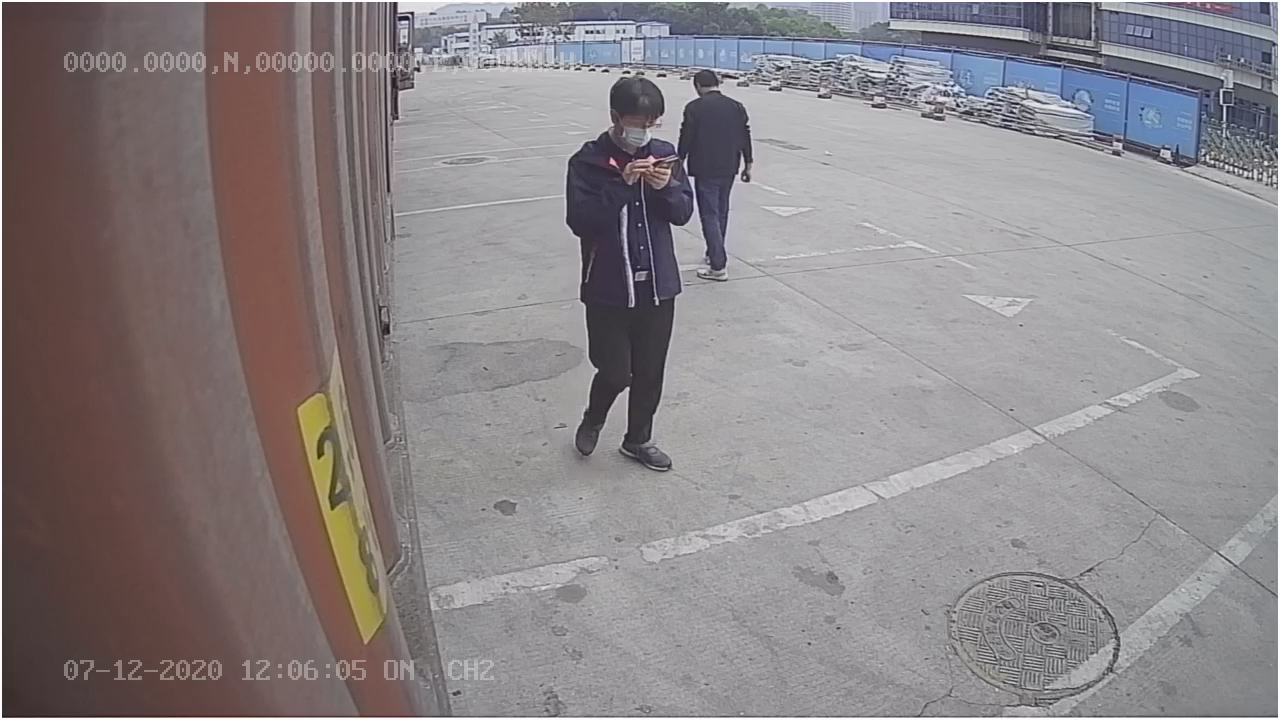person: (559, 73, 693, 477)
